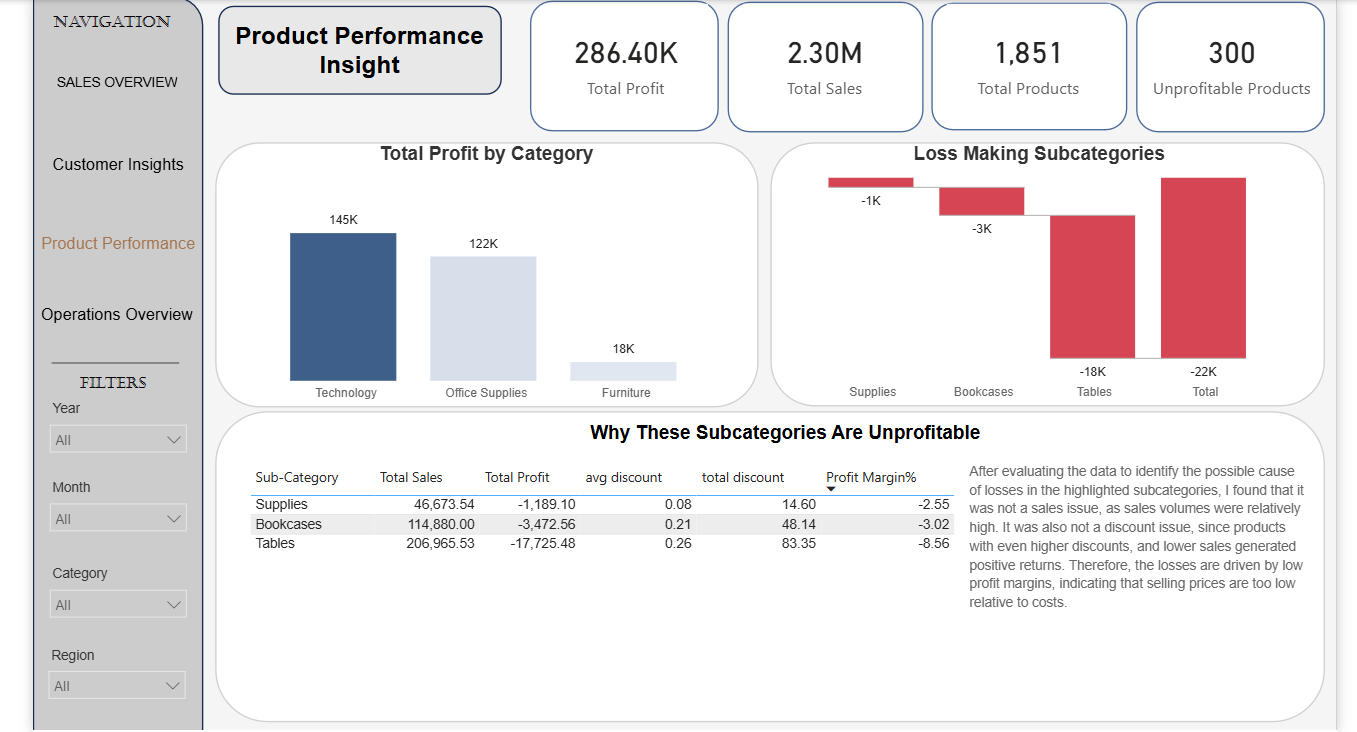

What the dashboard file says about the page in this screenshot:
{"tool":"powerbi","page":{"name":"PRODUCT","canvas":[1280,720],"ordinal":2},"visuals":[{"type":"slicer","fields":{"Values":["superstore.Year"]},"box":[6.1,389,154.6,65],"z":0},{"type":"slicer","fields":{"Values":["superstore.Category"]},"box":[6.1,550.9,154.6,66.3],"z":1000},{"type":"slicer","fields":{"Values":["superstore.Months of Year"]},"box":[6.1,466.3,154.6,69.9],"z":2000},{"type":"textbox","box":[178.1,16.7,29.2,34.8],"z":3000},{"type":"group","id":"g1","title":"Page Navigation","box":[2.8,61.2,161.4,267.1],"z":4000},{"type":"card","fields":{"Values":["superstore.Total Profit"]},"box":[502.2,4.1,160.5,115.3],"z":5000},{"type":"card","fields":{"Values":["superstore.Total Sales"]},"box":[697.1,4.1,160.5,115.3],"z":6000},{"type":"card","fields":{"Values":["superstore.Formatted Total Products"]},"box":[897.4,4.1,160.5,115.3],"z":7000},{"type":"card","fields":{"Values":["superstore.Loss-Making Products Count"]},"box":[1086.8,4.1,179.8,115.3],"z":8000},{"type":"slicer","fields":{"Values":["superstore.Region"]},"box":[4.9,630.7,154.6,66.3],"z":9000},{"type":"clusteredColumnChart","fields":{"Category":["superstore.Category"],"Y":["superstore.Total Profit"]},"box":[192.1,140,505,262.1],"z":10000},{"type":"waterfallChart","title":"Loss Making Subcategories","fields":{"Category":["superstore.Sub-Category"],"Y":["superstore.Total Profit"]},"box":[732.8,140,510.5,260.7],"z":11000},{"type":"tableEx","fields":{"Values":["superstore.Sub-Category","superstore.Total Sales","superstore.Total Profit","superstore.avg discount","superstore.total discount","superstore.Profit Margin%"]},"box":[207.2,452.8,706.7,146.8],"z":13000},{"type":"textbox","box":[913.9,447.3,343.1,168.8],"z":14000},{"type":"actionButton","title":"Operations Overview","box":[2.8,288,160,40.3],"z":16000,"group":"g1"},{"type":"actionButton","title":"Product Performance","box":[4.2,218.4,160,40.3],"z":16125},{"type":"actionButton","title":"Customer Insight","box":[4.2,140.5,160,40.3],"z":16250,"group":"g1"},{"type":"actionButton","title":"Sales Overview","box":[2.8,61.2,160,40.3],"z":16500,"group":"g1"}]}

Visuals, with their boxes on the page's 1280x720 design canvas (x1, y1, x2, y2). These are canvas units, not pixel positions in the 1357x732 screenshot, which may show the page scaled, cropped or inside an application window:
slicer - superstore.Year: <region>6, 389, 161, 454</region>
slicer - superstore.Category: <region>6, 551, 161, 617</region>
slicer - superstore.Months of Year: <region>6, 466, 161, 536</region>
textbox: <region>178, 17, 207, 52</region>
"Page Navigation" group: <region>3, 61, 164, 328</region>
card - superstore.Total Profit: <region>502, 4, 663, 119</region>
card - superstore.Total Sales: <region>697, 4, 858, 119</region>
card - superstore.Formatted Total Products: <region>897, 4, 1058, 119</region>
card - superstore.Loss-Making Products Count: <region>1087, 4, 1267, 119</region>
slicer - superstore.Region: <region>5, 631, 160, 697</region>
clusteredColumnChart - superstore.Category x superstore.Total Profit: <region>192, 140, 697, 402</region>
"Loss Making Subcategories" waterfallChart: <region>733, 140, 1243, 401</region>
tableEx - superstore.Sub-Category x superstore.Total Sales: <region>207, 453, 914, 600</region>
textbox: <region>914, 447, 1257, 616</region>
"Operations Overview" actionButton: <region>3, 288, 163, 328</region>
"Product Performance" actionButton: <region>4, 218, 164, 259</region>
"Customer Insight" actionButton: <region>4, 140, 164, 181</region>
"Sales Overview" actionButton: <region>3, 61, 163, 102</region>
